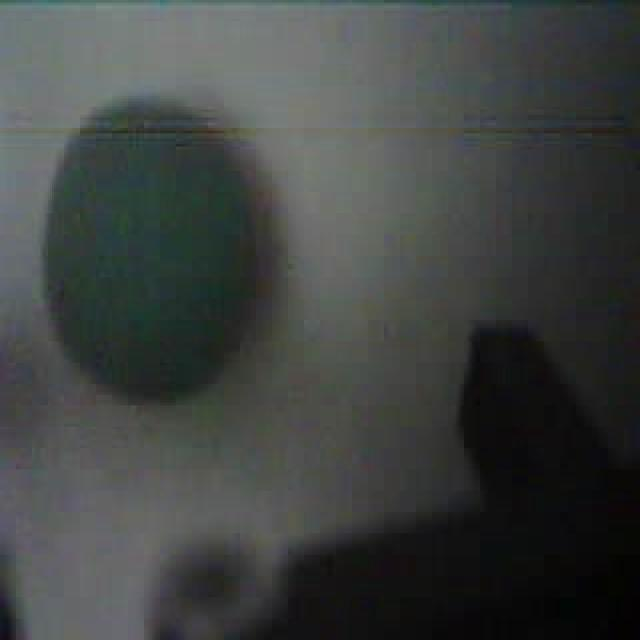green_ball: (38, 99, 270, 402)
